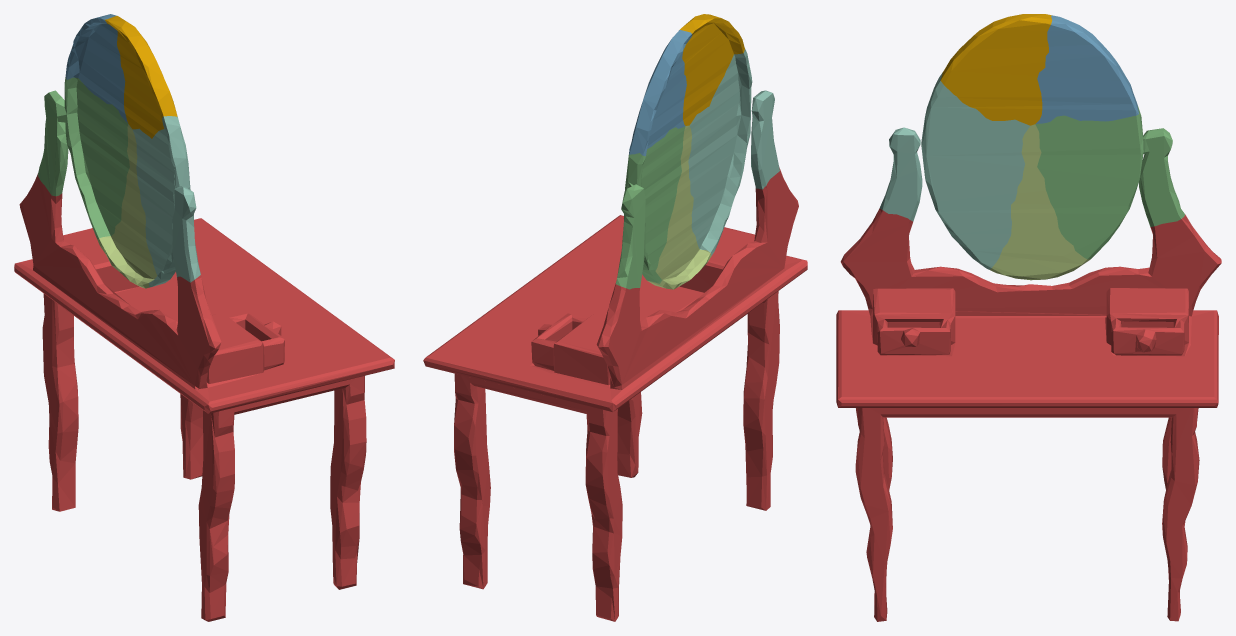
File: fractured_15_6pcs.glb
3 views of the same model, side by side, from view 1: azimuth 30°, elevation 25°; view 2: azimuth 150°, elevation 25°; view 3: azimuth 270°, elevation 25° (orthographic). The views are drawn at different scales.
Visible parts, largest first — view 1: piece_1.obj, piece_3.obj, piece_4.obj, piece_0.obj, piece_2.obj, piece_5.obj; view 2: piece_1.obj, piece_4.obj, piece_3.obj, piece_0.obj, piece_2.obj, piece_5.obj; view 3: piece_1.obj, piece_4.obj, piece_3.obj, piece_0.obj, piece_2.obj, piece_5.obj.
Boxes of the visible parts, left/top/right/bottom form: piece_1.obj: left=14, top=174, right=394, bottom=621; piece_3.obj: left=37, top=77, right=129, bottom=238; piece_4.obj: left=132, top=116, right=200, bottom=287; piece_0.obj: left=105, top=16, right=177, bottom=138; piece_2.obj: left=65, top=14, right=127, bottom=122; piece_5.obj: left=97, top=124, right=156, bottom=288; piece_1.obj: left=423, top=167, right=807, bottom=621; piece_4.obj: left=688, top=49, right=779, bottom=255; piece_3.obj: left=615, top=126, right=685, bottom=289; piece_0.obj: left=680, top=14, right=744, bottom=125; piece_2.obj: left=629, top=30, right=692, bottom=156; piece_5.obj: left=647, top=125, right=711, bottom=289; piece_1.obj: left=836, top=208, right=1221, bottom=621; piece_4.obj: left=880, top=72, right=1029, bottom=269; piece_3.obj: left=1035, top=106, right=1184, bottom=259; piece_0.obj: left=940, top=14, right=1052, bottom=125; piece_2.obj: left=1035, top=15, right=1138, bottom=124; piece_5.obj: left=990, top=124, right=1089, bottom=280.
Bounding box in the file's own units: 0.3649 × 1 × 0.6554.
